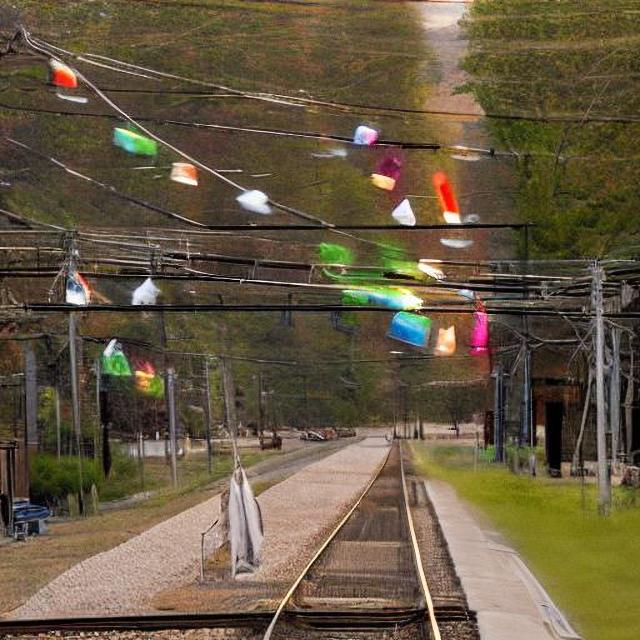floating object: (305, 128, 513, 320), (386, 292, 494, 356), (98, 337, 159, 397), (228, 181, 279, 229), (126, 274, 169, 313), (109, 124, 158, 158), (45, 58, 79, 90), (168, 162, 201, 188)
